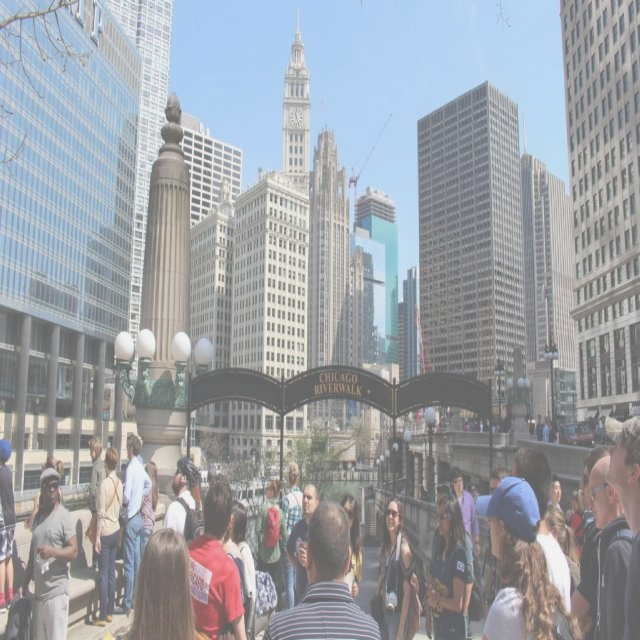pessoa: (478, 471, 594, 639), (261, 496, 383, 639), (109, 526, 210, 639), (184, 473, 250, 639), (510, 442, 572, 616), (20, 464, 80, 640), (586, 453, 634, 639), (602, 414, 640, 639), (424, 480, 476, 639), (22, 466, 68, 640), (369, 497, 424, 639), (112, 434, 154, 616), (84, 444, 124, 629), (544, 504, 600, 626), (427, 492, 469, 639), (254, 478, 289, 614), (285, 481, 321, 608), (161, 454, 206, 542), (68, 517, 104, 625), (232, 498, 258, 639), (282, 460, 304, 610), (448, 464, 481, 560), (0, 437, 17, 616), (340, 492, 362, 601), (579, 444, 610, 508), (466, 456, 510, 498), (140, 460, 159, 553), (87, 437, 109, 516), (190, 466, 221, 512), (220, 512, 243, 572), (567, 489, 585, 561), (462, 416, 508, 434), (588, 413, 607, 444), (548, 472, 562, 511), (548, 420, 568, 444), (408, 480, 428, 502), (534, 413, 544, 442), (434, 418, 452, 431), (542, 416, 550, 443), (368, 482, 375, 499)
